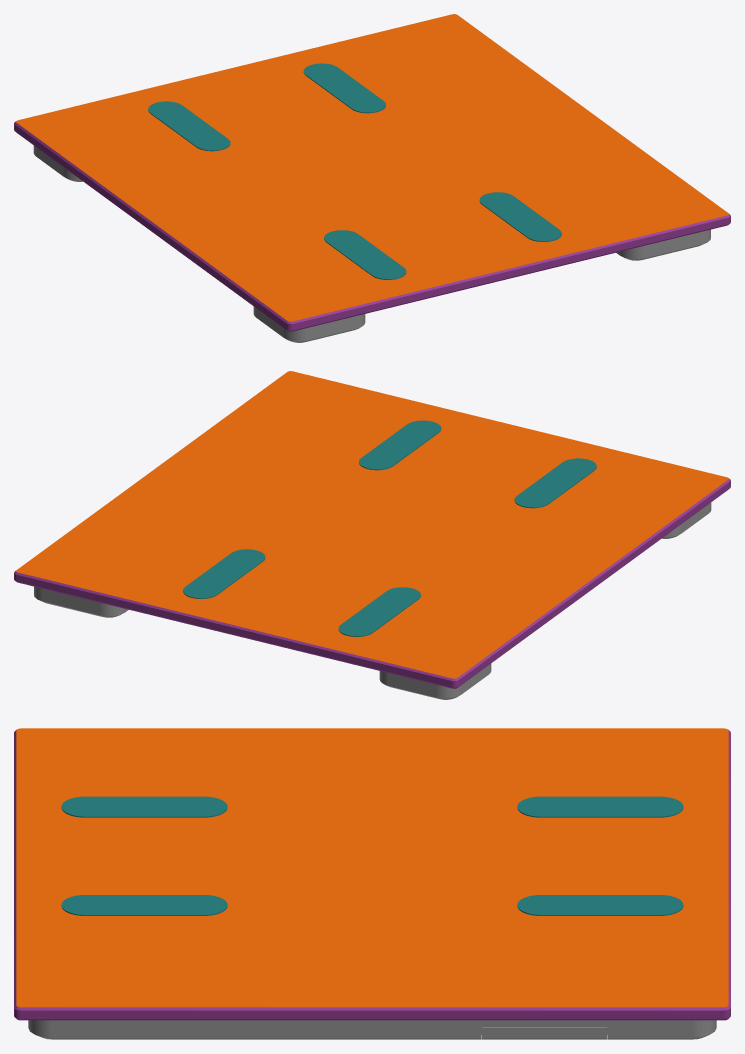
3 views of the same model, one above another, from view 1: azimuth 30°, elevation 25°; view 2: azimuth 150°, elevation 25°; view 3: azimuth 270°, elevation 25° (orthographic). The views are drawn at different scales.
Parts seen in each view (by area): view 1: Object008; view 2: Object008; view 3: Object008.
Boxes of the visible parts, x1,y1,x2,y2 form: Object008: (14, 14, 730, 342); Object008: (14, 371, 730, 699); Object008: (14, 728, 730, 1039).
Size of the model in its own units: 28 by 2.46 by 30.2.
